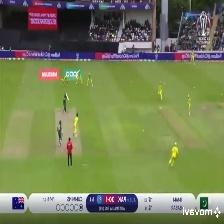ball: (140, 128, 147, 134)
batsman: (59, 90, 71, 114)
